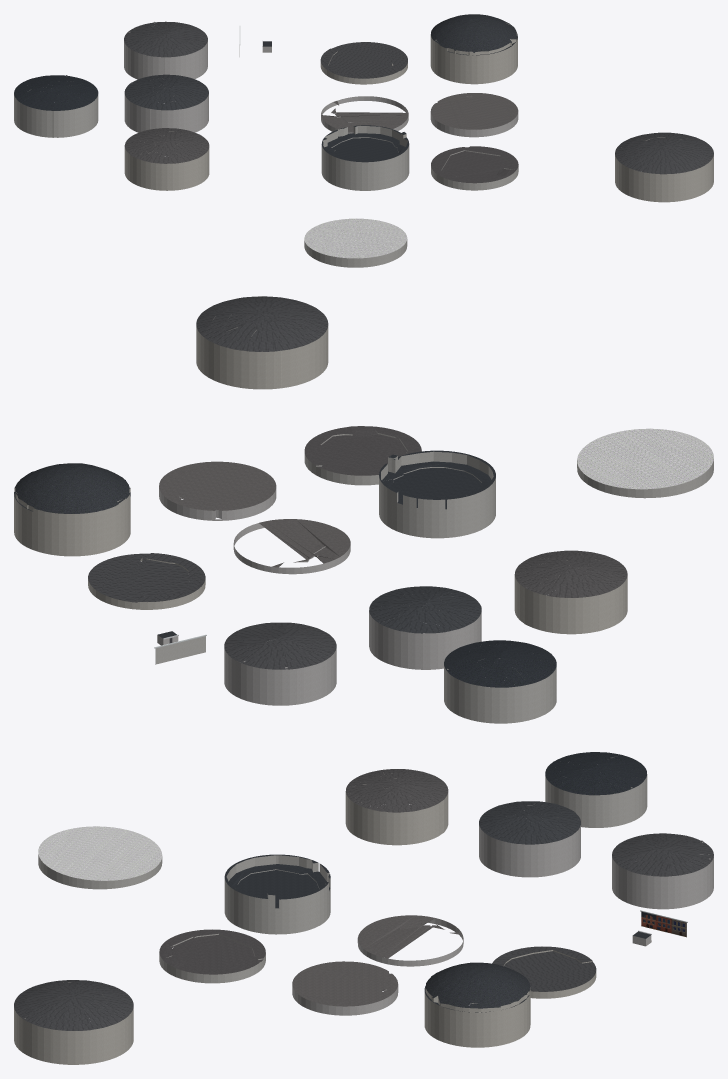
3 renders of one model, top to bottom at view 1: azimuth 30°, elevation 25°; view 2: azimuth 150°, elevation 25°; view 3: azimuth 270°, elevation 25°, orthographic. The views are drawn at different scales.
Visible parts, largest first — view 1: bldg_6000064237, bldg_6000064283_roof, bldg_6000064231_roof, bldg_6000064275, bldg_6000064283, bldg_6000064275_roof, bldg_6000064267_roof, bldg_6000064255_roof, bldg_6000064259_roof, bldg_6000064224_roof, bldg_6000064222_roof, bldg_6000064230_roof (+12 smaller); view 2: bldg_6000064231_roof, bldg_6000064237, bldg_6000064283_roof, bldg_6000064283, bldg_6000064275, bldg_6000064275_roof, bldg_6000064267_roof, bldg_6000064259_roof, bldg_6000064224_roof, bldg_6000064222_roof, bldg_6000064230_roof, bldg_6000064234_roof (+13 smaller); view 3: bldg_6000064231_roof, bldg_6000064237, bldg_6000064283_roof, bldg_6000064275, bldg_6000064283, bldg_6000064275_roof, bldg_6000064267_roof, bldg_6000064255_roof, bldg_6000064224_roof, bldg_6000064230_roof, bldg_6000064222_roof, bldg_6000064234_roof (+13 smaller).
Part boxes in pixels (x1,y1,x2,y2): bldg_6000064237: (321, 126, 409, 190); bldg_6000064283_roof: (615, 132, 713, 174); bldg_6000064231_roof: (304, 218, 407, 258); bldg_6000064275: (430, 23, 517, 84); bldg_6000064283: (615, 136, 713, 202); bldg_6000064275_roof: (430, 14, 517, 55); bldg_6000064267_roof: (430, 93, 518, 129); bldg_6000064255_roof: (431, 146, 518, 183); bldg_6000064259_roof: (320, 42, 407, 78); bldg_6000064224_roof: (124, 128, 209, 163); bldg_6000064222_roof: (14, 75, 98, 110); bldg_6000064230_roof: (124, 74, 208, 110); bldg_6000064231_roof: (577, 428, 713, 489); bldg_6000064237: (379, 451, 495, 538); bldg_6000064283_roof: (196, 296, 328, 351); bldg_6000064283: (196, 296, 328, 389); bldg_6000064275: (14, 478, 130, 556); bldg_6000064275_roof: (14, 463, 130, 513); bldg_6000064267_roof: (159, 461, 276, 510); bldg_6000064259_roof: (88, 553, 205, 602); bldg_6000064224_roof: (514, 550, 627, 597); bldg_6000064222_roof: (444, 640, 556, 687); bldg_6000064230_roof: (369, 586, 481, 633); bldg_6000064234_roof: (224, 622, 336, 669); bldg_6000064231_roof: (38, 826, 162, 880); bldg_6000064237: (224, 855, 330, 934); bldg_6000064283_roof: (14, 980, 133, 1030); bldg_6000064275: (424, 976, 530, 1047); bldg_6000064283: (14, 982, 133, 1064); bldg_6000064275_roof: (424, 962, 530, 1012); bldg_6000064267_roof: (292, 961, 397, 1006); bldg_6000064255_roof: (159, 929, 265, 974); bldg_6000064224_roof: (345, 769, 448, 812); bldg_6000064230_roof: (479, 801, 580, 844); bldg_6000064222_roof: (545, 752, 646, 795); bldg_6000064234_roof: (612, 833, 713, 876).
Bounding box in the file's own units: 283 × 25.6 × 298.
Materials: 18 (13 with a texture image).
